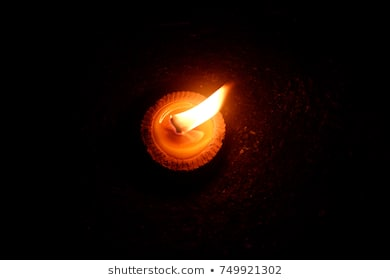Fire: (170, 74, 234, 137)
